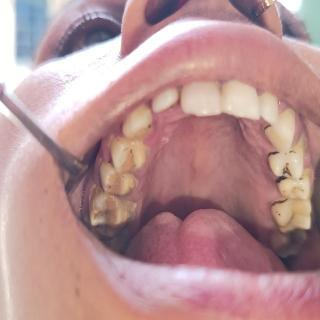ULCI_healthy: (221, 80, 260, 120)
ULC_sdecay: (263, 107, 294, 153)
ULLI_healthy: (259, 92, 279, 126)
UR1BC_sdecay: (109, 138, 148, 174), (267, 149, 303, 181)
UR1M_sdecay: (87, 184, 136, 225), (271, 198, 312, 232)
UR2BC_sdecay: (99, 162, 137, 196), (277, 173, 313, 200)
URCI_healthy: (181, 79, 221, 116)
URC_sdecay: (120, 104, 153, 138)
URLI_sdecay: (148, 86, 179, 112)
